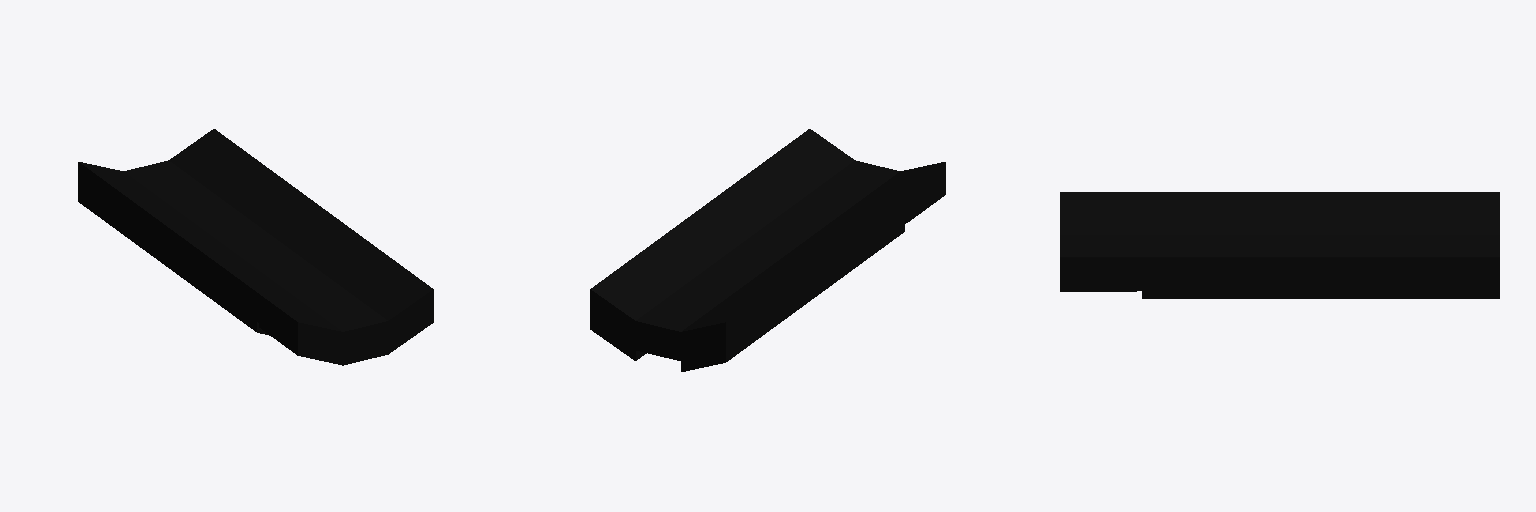
Rendered from Lid.obj.
The picture shows the model from 3 angles: view 1: azimuth 30°, elevation 25°; view 2: azimuth 150°, elevation 25°; view 3: azimuth 270°, elevation 25°; orthographic projection.
Visible parts, largest first — view 1: Mossberg590.003_Cube.003; view 2: Mossberg590.003_Cube.003; view 3: Mossberg590.003_Cube.003.
Boxes of the visible parts, box(x1,y1,x2,y2) form: Mossberg590.003_Cube.003: box(78, 129, 433, 365); Mossberg590.003_Cube.003: box(590, 129, 945, 371); Mossberg590.003_Cube.003: box(1060, 192, 1499, 298).
Bounding box in the file's own units: 0.0277 × 0.012 × 0.0777.